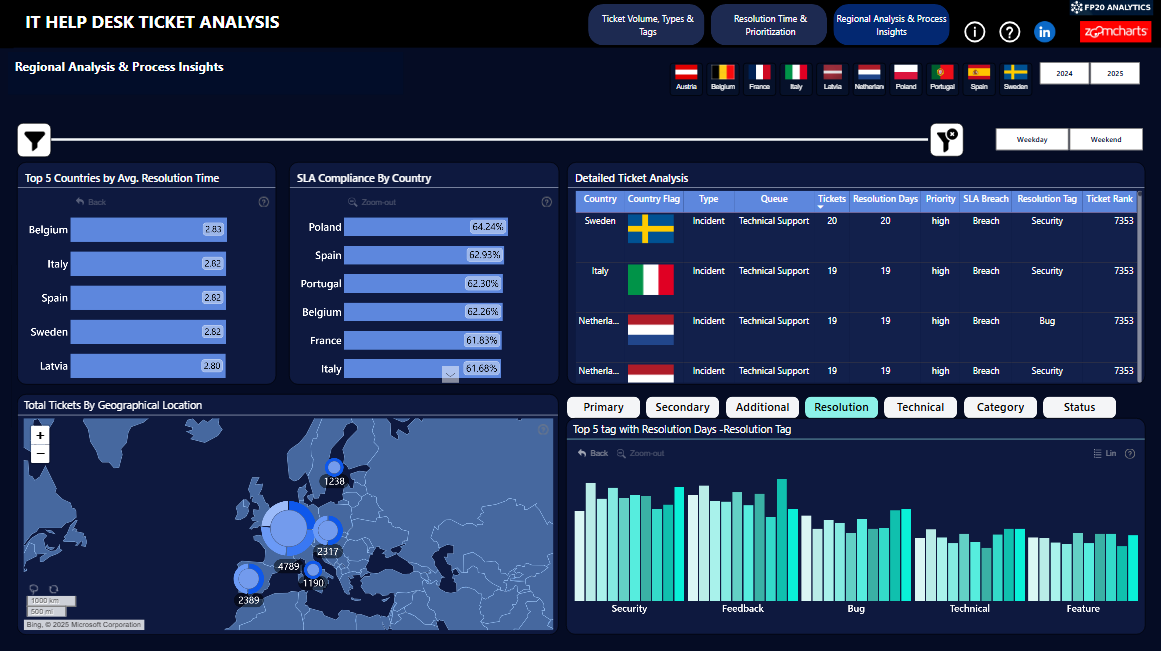

Layout of this report page (visuals, bound fields, positions):
{"tool":"powerbi","page":{"name":"Regional Analysis & Process Insights","canvas":[1920,1080],"ordinal":2},"visuals":[{"type":"shape","box":[87.4,125,1438.3,110],"z":0,"group":"g1"},{"type":"shape","box":[23.3,245,1880,808.3],"z":0},{"type":"actionButton","box":[940,650,120,40],"z":0,"group":"g2"},{"type":"group","id":"g1","title":"Group 1","box":[31.7,125,1551.7,110],"z":1000},{"type":"image","box":[1527.8,152.5,55.2,55.2],"z":1000,"group":"g1"},{"type":"actionButton","box":[1070,650,120,40],"z":1000,"group":"g2"},{"type":"textbox","box":[0,0,31.6,83.5],"z":2000},{"type":"image","box":[31.7,152.7,55.7,55.7],"z":2000,"group":"g1"},{"type":"actionButton","box":[1200,650,120,40],"z":2000,"group":"g2"},{"type":"textbox","title":"IT HELP DESK TICKET ANALYSIS","box":[31.8,0,1888.2,83],"z":3000},{"type":"actionButton","box":[1330,650,120,40],"z":3000,"group":"g2"},{"type":"tableEx","title":"Detailed Ticket Analysis","fields":{"Values":["fact_tickets.Country","dim_flags.Country Flag ","fact_tickets.Type","fact_tickets.Queue","dax_measures.Total Tickets","CountNonNull(fact_tickets.Resolution Days)","fact_tickets.Priority","fact_tickets.SLA Breach","fact_tickets.Resolution Tag","fact_tickets.Ticket Rank by Resolution Time"]},"box":[940,270,948.3,365],"z":4000},{"type":"actionButton","box":[1460,650,120,40],"z":4000,"group":"g2"},{"type":"textbox","title":"Regional Analysis & Process Insights","box":[23.3,90,648.3,70],"z":5000},{"type":"actionButton","box":[1590,650,120,40],"z":5000,"group":"g2"},{"type":"ZoomChartsDrillDownComboBarProE77E4ED357DC402ABA005987437CF8","title":" Top 5 Countries by Avg. Resolution Time","fields":{"Category":["fact_tickets.Country"],"Values1":["dax_measures.Avg Resolution Days"]},"box":[38.3,270,425,365],"z":6000},{"type":"actionButton","box":[1720,650,120,40],"z":6000,"group":"g2"},{"type":"group","id":"g2","title":"Tag Buttons Primary","box":[940,650,900,40],"z":10000},{"type":"image","box":[1758,35.2,162.5,45.5],"z":17000},{"type":"image","box":[1758,0,148.4,34.8],"z":18000},{"type":"image","box":[1700.4,34.8,45.4,45.4],"z":19000},{"type":"actionButton","box":[1585.4,34.8,45.4,45.4],"z":20000},{"type":"actionButton","box":[1642.9,34.8,45.4,45.4],"z":21000},{"type":"slicer","fields":{"Values":["dim_date.Year"]},"box":[1705,103.3,215,50],"z":22000},{"type":"ZoomChartsFacetChartPaidE77E4ED357DC402ABA005987437CF500","title":"Top 5 tag  with Resolution Days  -Primary Tag","fields":{"Category":["fact_tickets.Primary Tag"],"RuleColor":["dax_measures.Avg Resolution Days"],"Values1":["dax_measures.Total Tickets"],"Legend":["fact_tickets.Country"]},"box":[940,690,948.3,355],"z":23000},{"type":"ZoomChartsDrillDownComboBarProE77E4ED357DC402ABA005987437CF8","title":"SLA Compliance By Country ","fields":{"Category":["fact_tickets.Country"],"Values1":["dax_measures.SLA Compliance %"]},"box":[483.3,270,443.3,365],"z":30000},{"type":"slicer","fields":{"Values":["dim_date.Weekend Flag"]},"box":[1630,153.3,290,50],"z":31000},{"type":"ZoomChartsDrillDownMapPro6AFEEB10499543F282BD06EF315D5EAA","title":"Total Tickets By Geographical Location","fields":{"latitude":["dim_country.Latitude"],"longitude":["dim_country.Longitude"],"name":["dim_country.Country"],"value":["dax_measures.Total Tickets"],"nodeReachRadius":["dax_measures.Total Tickets"],"color":["dax_measures.Total Tickets"]},"box":[38.3,650,888.3,395],"z":32000},{"type":"pageNavigator","box":[968.3,6.7,605,73.3],"z":35000}]}

Visuals, with their boxes in screenshot pixels (x1, y1, x2, y2), scaled from the page's 1920x1080 canvas onto the 1161x651 screenshot:
shape: l=53, t=75, r=923, b=142
shape: l=14, t=148, r=1151, b=635
actionButton: l=568, t=392, r=641, b=416
"Group 1" group: l=19, t=75, r=957, b=142
image: l=924, t=92, r=957, b=125
actionButton: l=647, t=392, r=720, b=416
textbox: l=0, t=0, r=19, b=50
image: l=19, t=92, r=53, b=126
actionButton: l=726, t=392, r=798, b=416
"IT HELP DESK TICKET ANALYSIS" textbox: l=19, t=0, r=1160, b=50
actionButton: l=804, t=392, r=877, b=416
"Detailed Ticket Analysis" tableEx: l=568, t=163, r=1142, b=383
actionButton: l=883, t=392, r=955, b=416
"Regional Analysis & Process Insights" textbox: l=14, t=54, r=406, b=96
actionButton: l=961, t=392, r=1034, b=416
" Top 5 Countries by Avg. Resolution Time" ZoomChartsDrillDownComboBarProE77E4ED357DC402ABA005987437CF8: l=23, t=163, r=280, b=383
actionButton: l=1040, t=392, r=1113, b=416
"Tag Buttons Primary" group: l=568, t=392, r=1113, b=416
image: l=1063, t=21, r=1160, b=49
image: l=1063, t=0, r=1153, b=21
image: l=1028, t=21, r=1056, b=48
actionButton: l=959, t=21, r=986, b=48
actionButton: l=993, t=21, r=1021, b=48
slicer - dim_date.Year: l=1031, t=62, r=1160, b=92
"Top 5 tag  with Resolution Days  -Primary Tag" ZoomChartsFacetChartPaidE77E4ED357DC402ABA005987437CF500: l=568, t=416, r=1142, b=630
"SLA Compliance By Country " ZoomChartsDrillDownComboBarProE77E4ED357DC402ABA005987437CF8: l=292, t=163, r=560, b=383
slicer - dim_date.Weekend Flag: l=986, t=92, r=1160, b=123
"Total Tickets By Geographical Location" ZoomChartsDrillDownMapPro6AFEEB10499543F282BD06EF315D5EAA: l=23, t=392, r=560, b=630
pageNavigator: l=586, t=4, r=951, b=48
